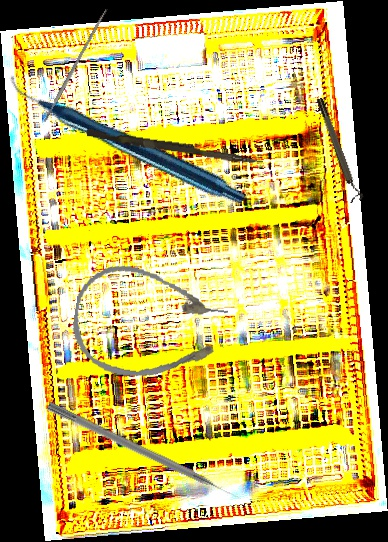Cannula: (66, 258, 233, 391)
Fixation Ring: (314, 95, 365, 204)
Handpiece: (8, 4, 247, 272)
Pusher: (45, 400, 243, 506), (86, 128, 264, 166)
Scalpel Handle: (41, 7, 109, 124)
